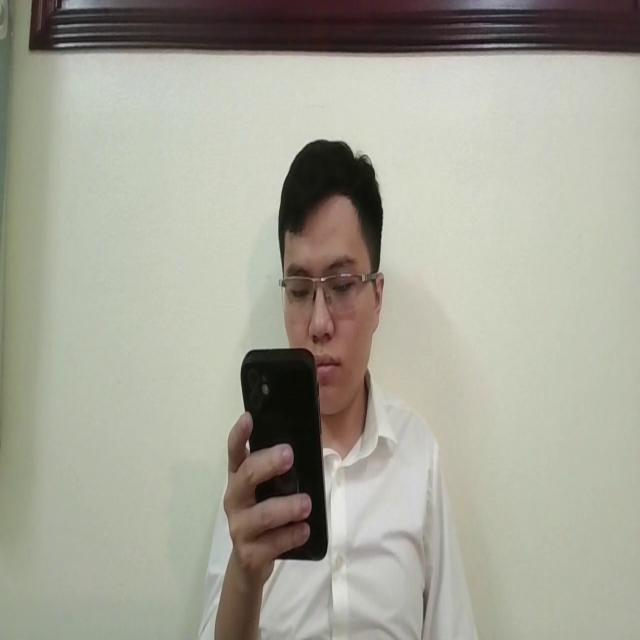phone: (238, 341, 330, 565)
student: (202, 128, 477, 640)
